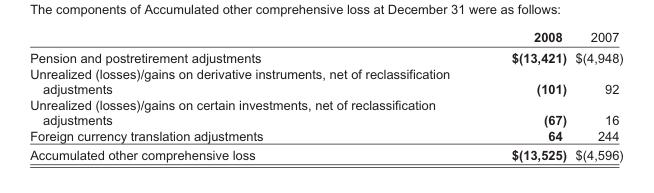table: (29, 29, 622, 161)
table column: (29, 29, 480, 161), (480, 29, 570, 161), (570, 29, 622, 161)
table column header: (29, 29, 622, 46)
table row: (29, 65, 622, 96), (29, 96, 622, 127), (29, 46, 622, 65), (29, 29, 622, 46), (29, 127, 622, 144), (29, 144, 622, 161)
